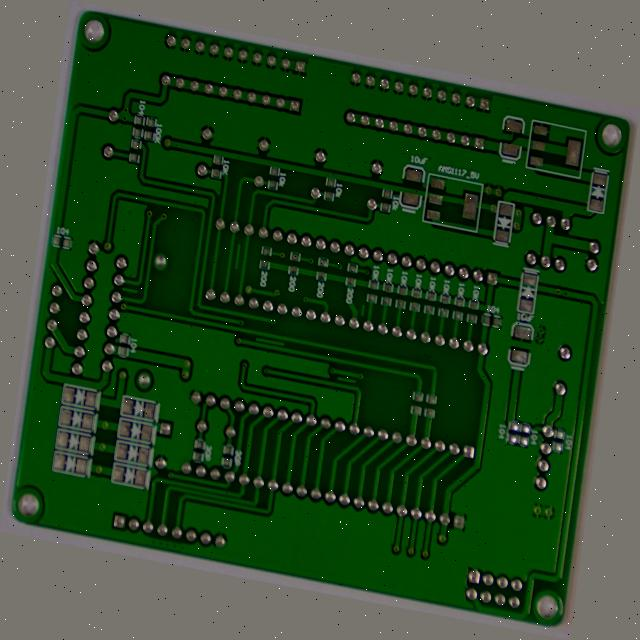spurious_copper: (250, 346, 289, 367), (343, 375, 373, 395), (214, 247, 229, 283), (95, 318, 120, 336), (360, 291, 373, 310)
